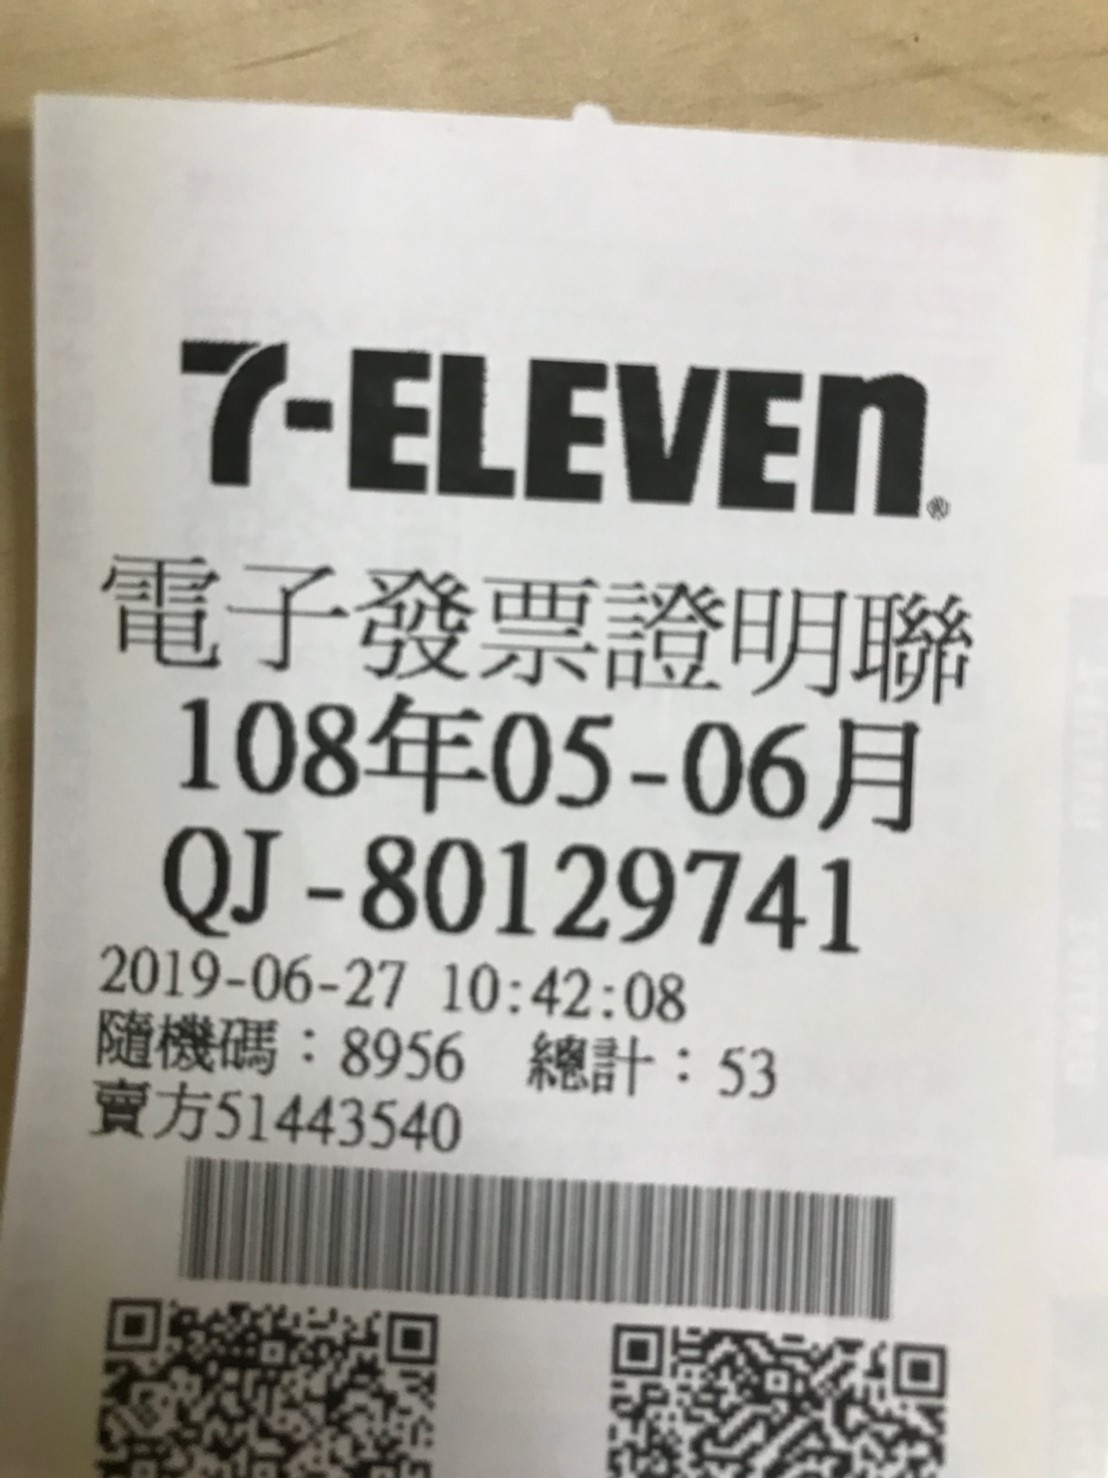Date_New: (173, 696, 922, 841)
Number_New: (358, 824, 869, 957)
